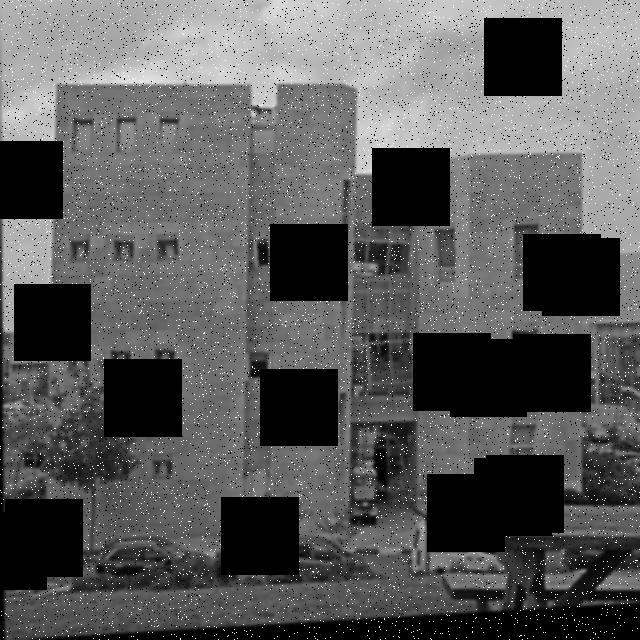Window: (353, 338, 415, 396), (357, 237, 412, 280), (509, 425, 539, 492), (511, 228, 540, 296), (509, 329, 534, 402), (435, 232, 458, 292), (248, 236, 276, 275), (110, 342, 138, 380), (243, 466, 271, 504), (160, 117, 183, 159), (72, 118, 97, 156), (247, 350, 274, 382), (155, 340, 178, 377), (157, 232, 180, 268), (116, 120, 139, 154), (67, 346, 89, 381), (72, 232, 94, 264), (341, 284, 352, 348), (340, 186, 351, 243), (156, 458, 176, 487), (114, 235, 132, 266), (339, 398, 349, 448)
